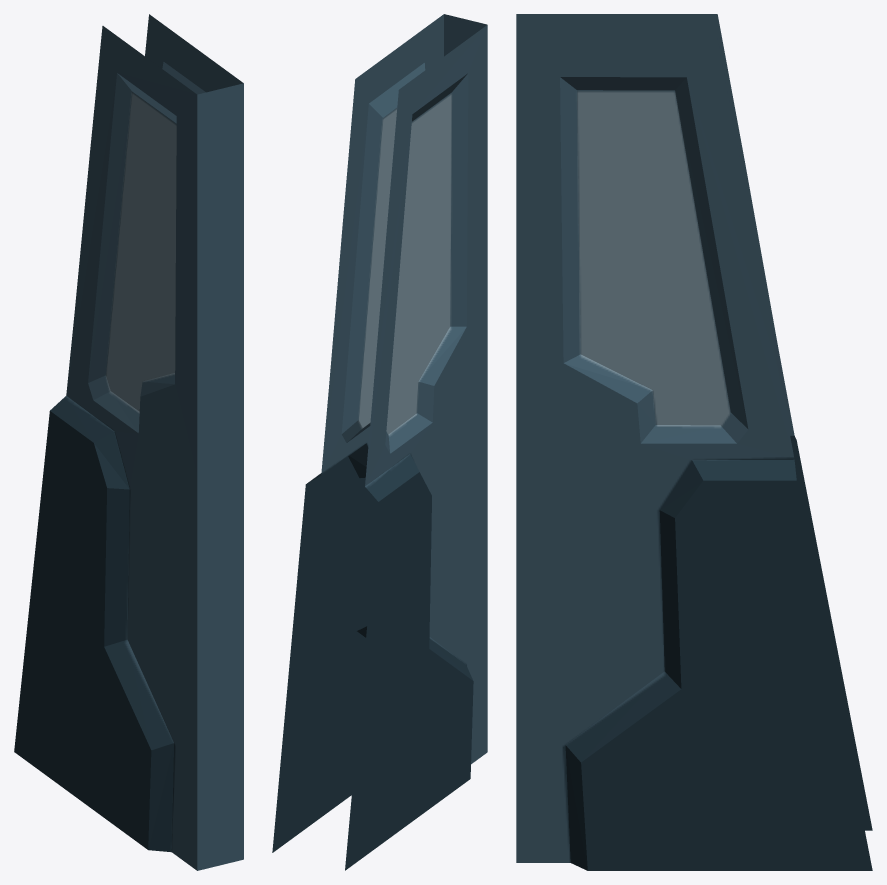
Rendered from door_rightSide.FBX.
The picture shows the model from 3 angles, left to right: view 1: azimuth 30°, elevation 25°; view 2: azimuth 150°, elevation 25°; view 3: azimuth 270°, elevation 25°; orthographic projection. The views are drawn at different scales.
Visible parts, largest first — view 1: door_rightSide; view 2: door_rightSide; view 3: door_rightSide.
Boxes of the visible parts, x1=… form: door_rightSide: x1=14, y1=14, x2=243, y2=870; door_rightSide: x1=272, y1=14, x2=487, y2=870; door_rightSide: x1=516, y1=14, x2=872, y2=870.
Bounding box in the file's own units: 36.69 × 351 × 138.
Materials: 1 (1 with a texture image).
